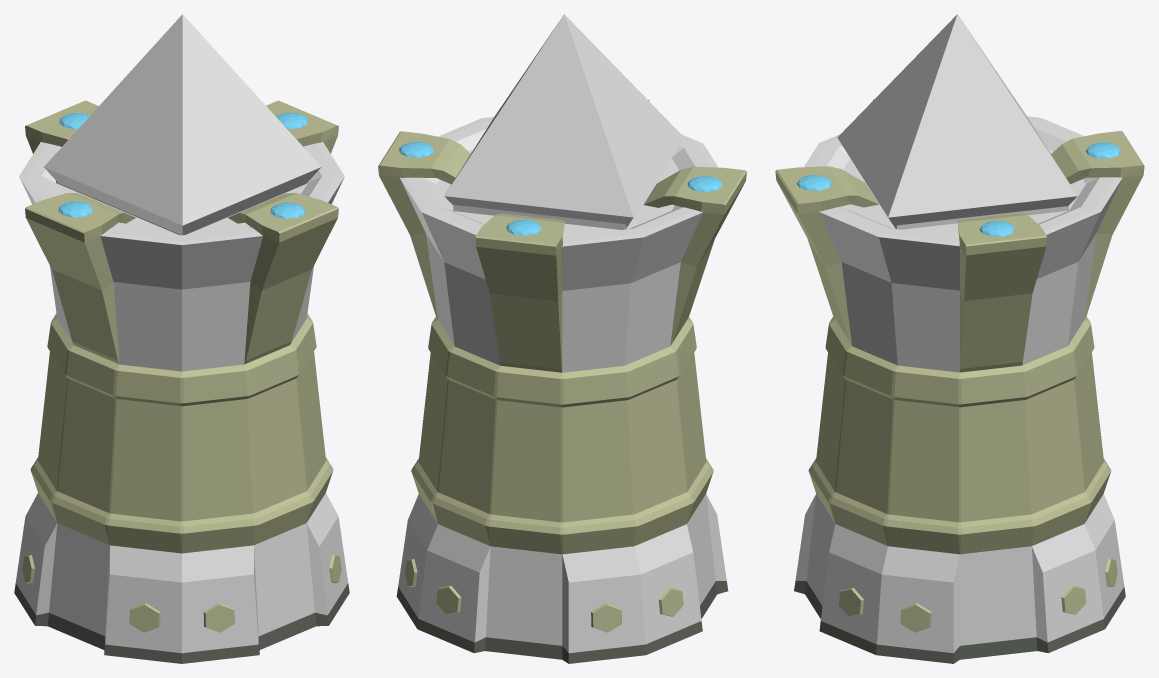
The model's file is 3.2机关平台机关（顶部重做）.fbx.
The picture shows the model from 3 angles, left to right: view 1: azimuth 30°, elevation 25°; view 2: azimuth 150°, elevation 25°; view 3: azimuth 270°, elevation 25°; orthographic projection.
Parts seen in each view (by area): view 1: 柱体.007, 柱体.008, 立方体, 柱体.003, 柱体.004, 柱体.005, 柱体.002, 柱体.014, 柱体.013; view 2: 柱体.007, 柱体.008, 立方体, 柱体.005, 柱体.004, 柱体.002, 柱体.001, 柱体.015, 柱体.016, 柱体.012; view 3: 柱体.007, 柱体.008, 立方体, 柱体.002, 柱体.003, 柱体.005, 柱体.001, 柱体.018, 柱体.017, 柱体.019.
Boxes of the visible parts, x1,y1,x2,y2 form: 柱体.007: (14, 142, 349, 663); 柱体.008: (30, 313, 333, 553); 立方体: (44, 14, 320, 235); 柱体.003: (228, 193, 338, 364); 柱体.004: (25, 193, 135, 364); 柱体.005: (25, 100, 98, 153); 柱体.002: (266, 100, 338, 153); 柱体.014: (129, 603, 160, 632); 柱体.013: (203, 603, 234, 632); 柱体.007: (396, 117, 728, 663); 柱体.008: (411, 316, 713, 554); 立方体: (444, 14, 684, 227); 柱体.005: (475, 213, 564, 372); 柱体.004: (643, 166, 746, 345); 柱体.002: (378, 131, 470, 319); 柱体.001: (453, 204, 630, 229); 柱体.015: (591, 603, 621, 632); 柱体.016: (436, 585, 461, 614); 柱体.012: (658, 587, 683, 616); 柱体.007: (794, 116, 1125, 663); 柱体.008: (808, 316, 1111, 554); 立方体: (837, 14, 1077, 228); 柱体.002: (957, 213, 1046, 372); 柱体.003: (775, 166, 878, 345); 柱体.005: (1051, 131, 1144, 318); 柱体.001: (896, 205, 1068, 229); 柱体.018: (900, 603, 931, 632); 柱体.017: (1061, 585, 1086, 614); 柱体.019: (839, 587, 863, 616).
Size of the model in its own units: 76.69 by 133 by 76.69.
